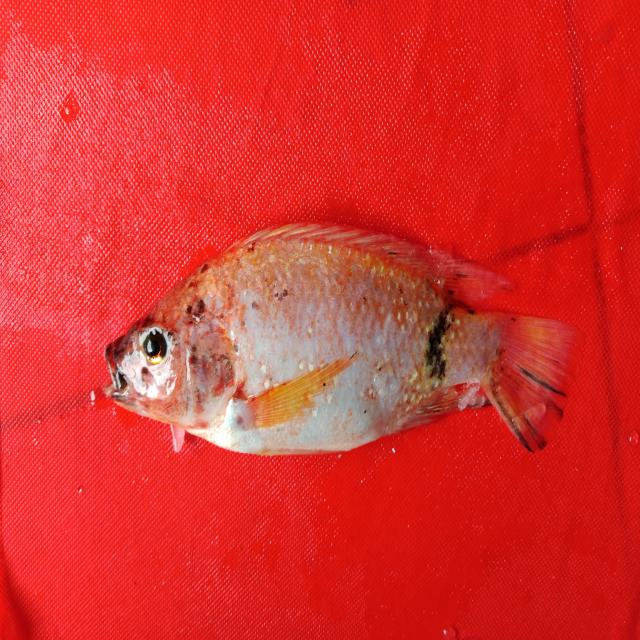ikan: (96, 202, 576, 469)
